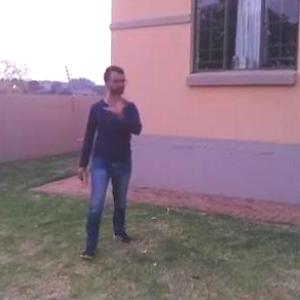follow_hand: (103, 89, 130, 116)
